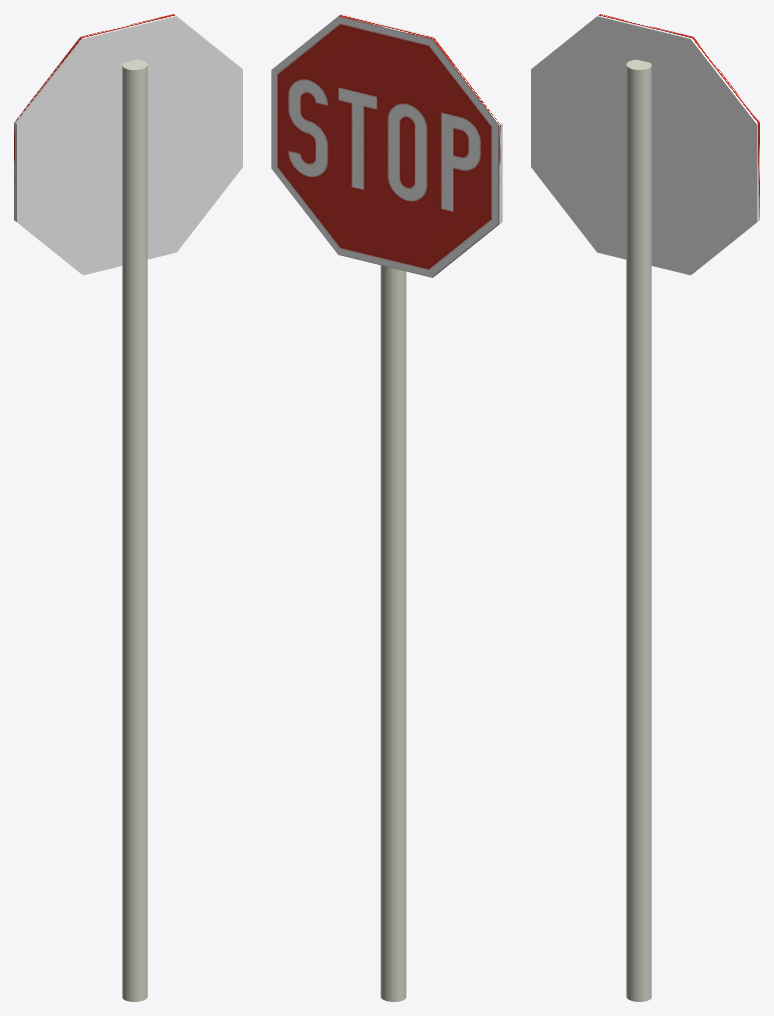
The model's file is stop_tube.glb.
3 views of the same model, side by side, from view 1: azimuth 30°, elevation 25°; view 2: azimuth 150°, elevation 25°; view 3: azimuth 330°, elevation 25° (orthographic).
Parts seen in each view (by area): view 1: stop_tube; view 2: stop_tube; view 3: stop_tube.
Part boxes in pixels (box(x1,y1,x2,y2)): stop_tube: box(14, 14, 242, 1001); stop_tube: box(271, 14, 502, 1001); stop_tube: box(531, 14, 759, 1001).
Size of the model in its own units: 0.4402 by 1.8 by 0.0474.
2 materials, 1 textured.
